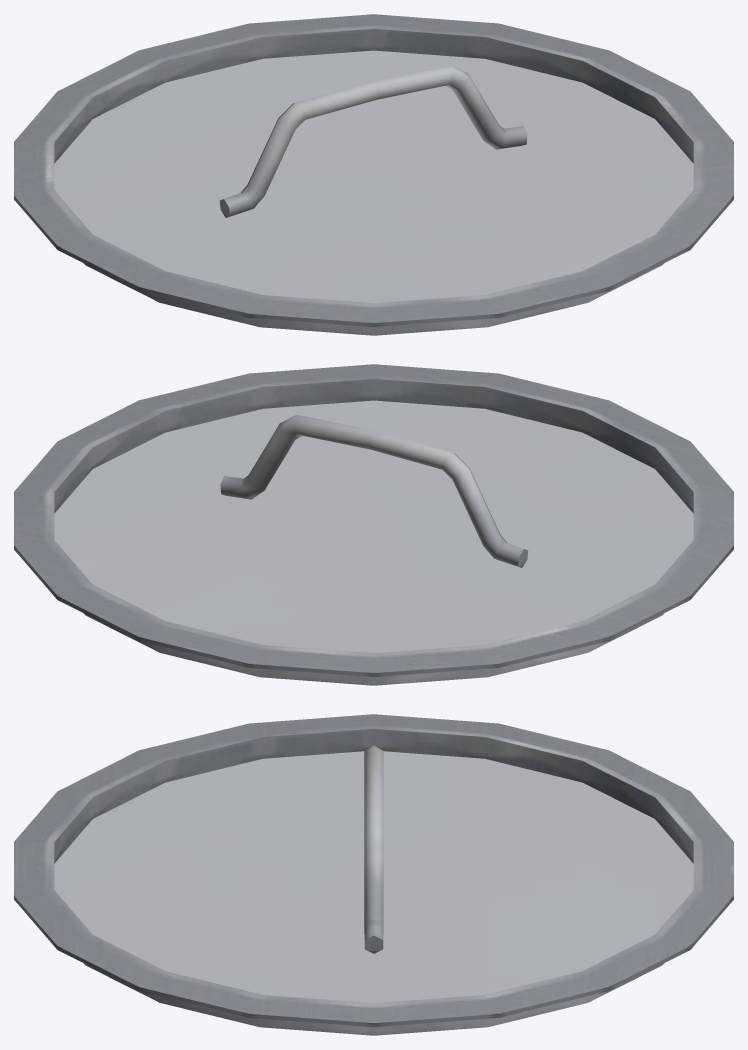
File: SM_Pan_Lid_02b.glb
3 renders of one model, top to bottom at view 1: azimuth 30°, elevation 25°; view 2: azimuth 150°, elevation 25°; view 3: azimuth 270°, elevation 25°, orthographic.
Parts seen in each view (by area): view 1: SM_Pan_Lid_02b; view 2: SM_Pan_Lid_02b; view 3: SM_Pan_Lid_02b.
Boxes of the visible parts, box(x1,y1,x2,y2) form: SM_Pan_Lid_02b: box(14, 14, 733, 335); SM_Pan_Lid_02b: box(14, 364, 733, 685); SM_Pan_Lid_02b: box(14, 714, 733, 1035).
Bounding box in the file's own units: 0.3145 × 0.0542 × 0.3097.
2 materials, 2 textured.
